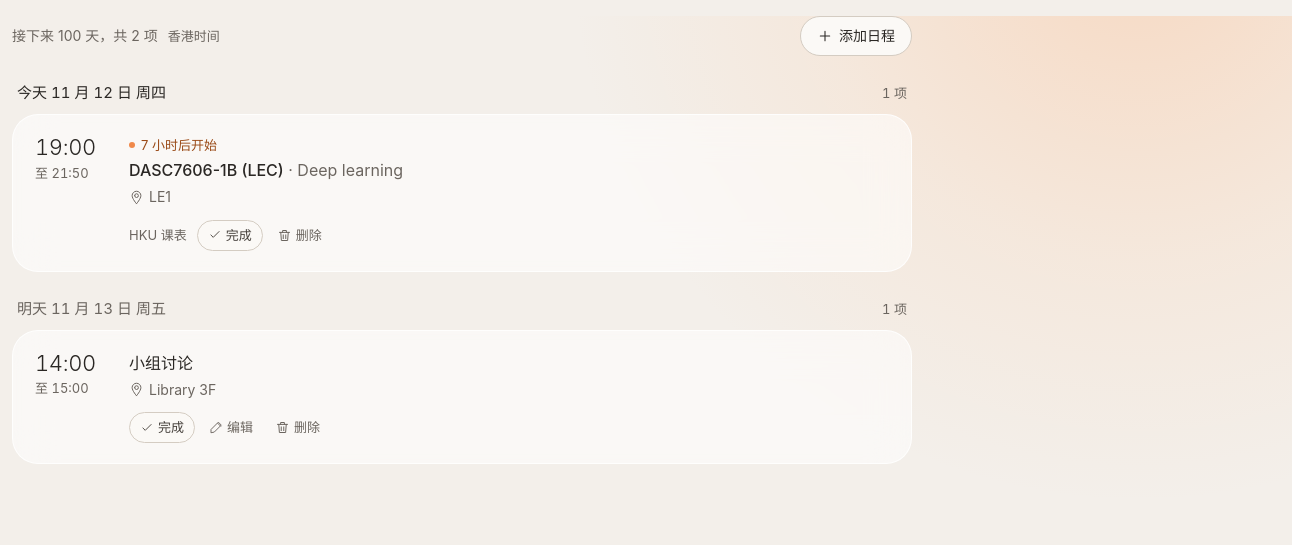
Test: confirms before deleting and can cancel
Click the button with aria-label "删除 小组讨论" at (298, 428), box [267,413,328,442]
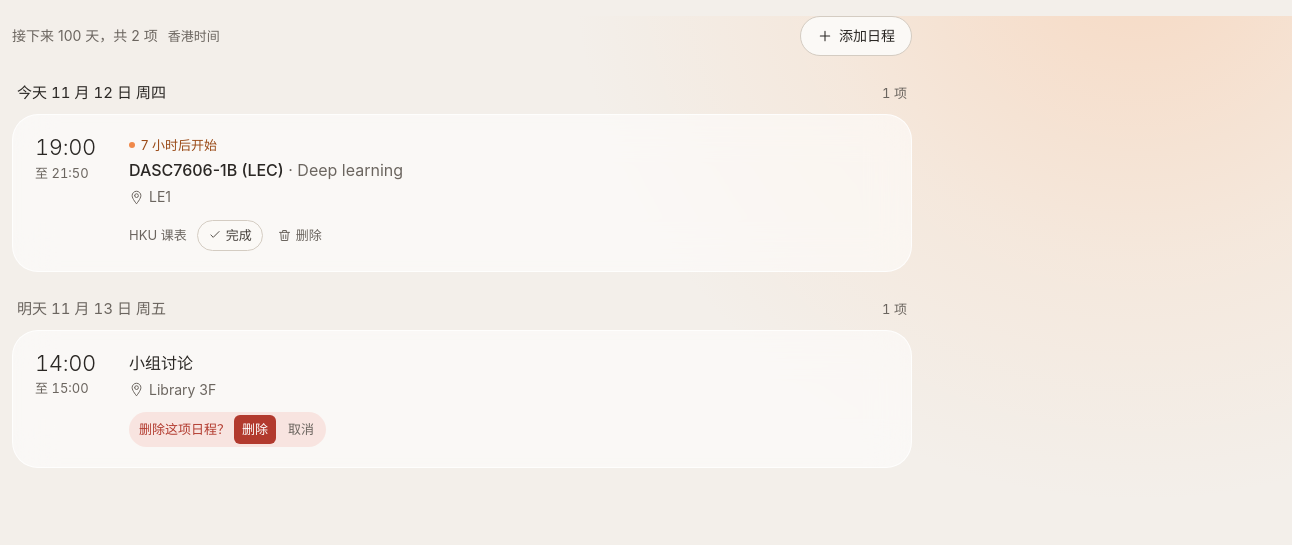
Click the button "取消" at (301, 430), box [280,415,322,444]
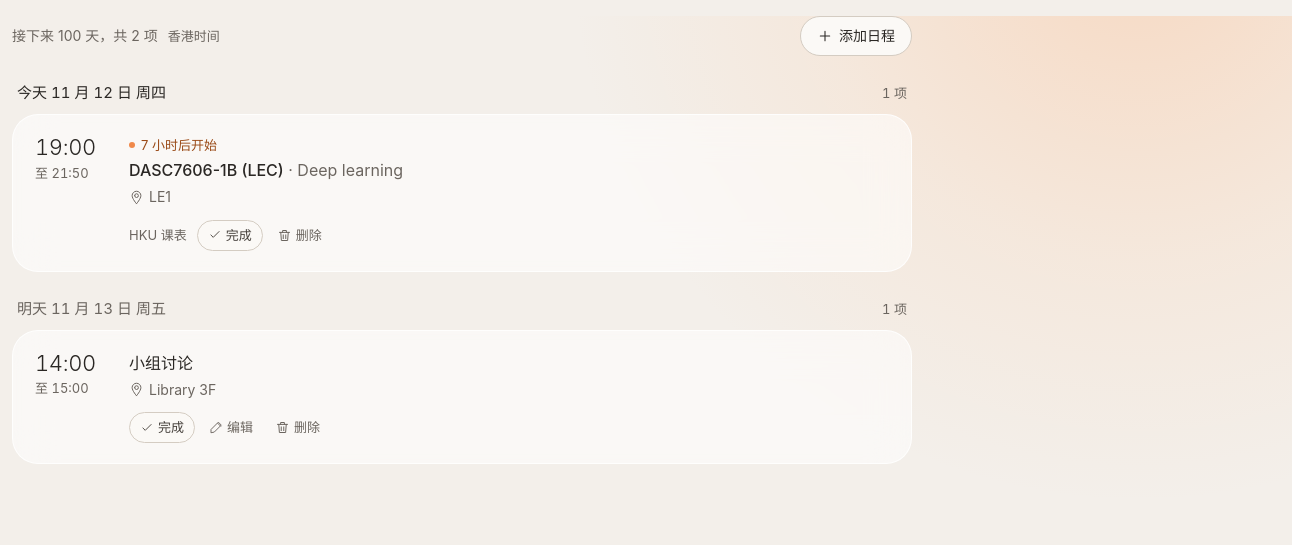
Click the button with aria-label "删除 DASC7606-1B (LEC)" at (299, 235), box [269,221,330,250]
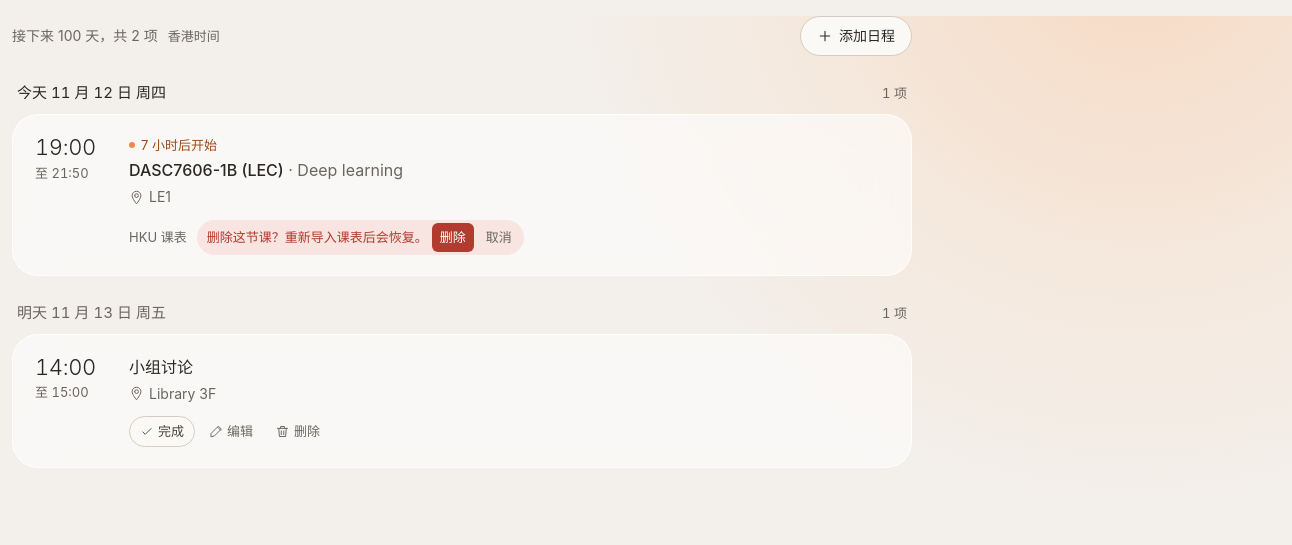
Now the text "删除这节课？重新导入课表后会恢复。" is shown, box [207,227,428,248]
Click the button "删除" next to "删除这节课？重新导入课表后会恢复。" at (453, 237), box [432,223,474,252]
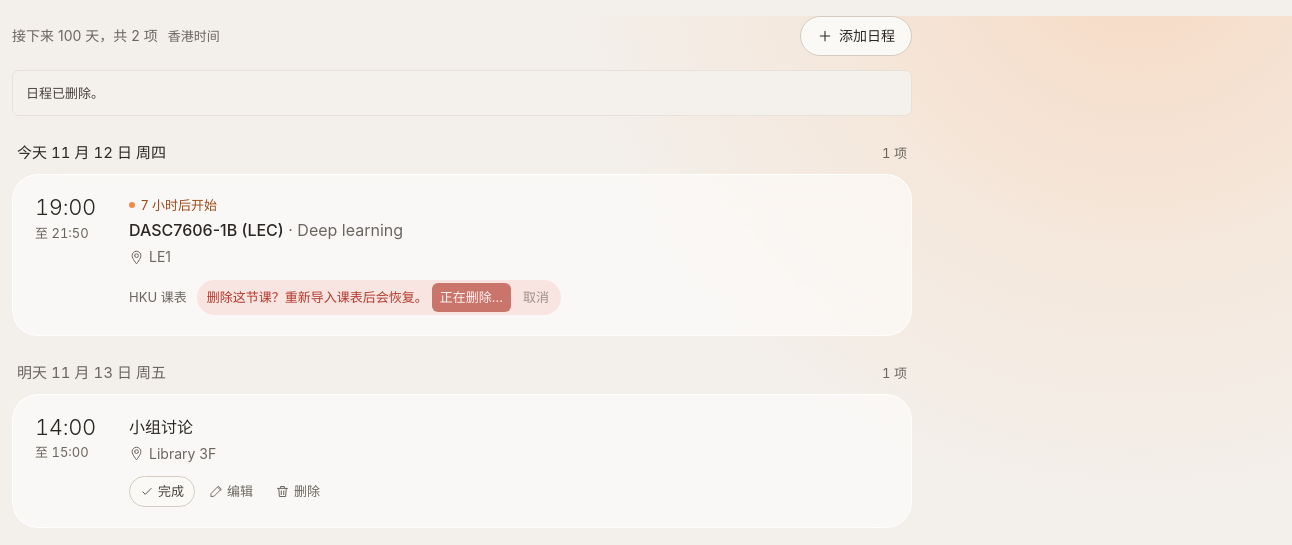
Now the text "日程已删除。" is shown, box [12,70,912,116]
